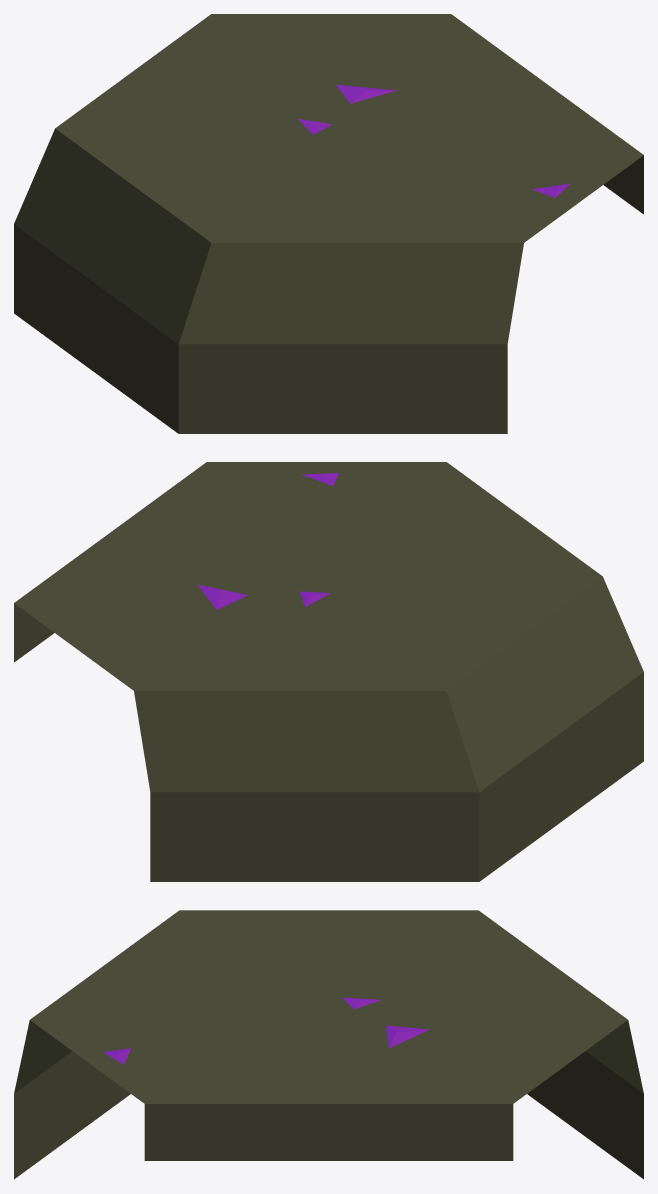
File: nearpointUnit3(2).fbx
3 views of the same model, one above another, from view 1: azimuth 30°, elevation 25°; view 2: azimuth 150°, elevation 25°; view 3: azimuth 270°, elevation 25° (orthographic). The views are drawn at different scales.
Parts seen in each view (by area): view 1: nearpointUnit3(2); view 2: nearpointUnit3(2); view 3: nearpointUnit3(2).
Part boxes in pixels (x1,y1,x2,y2): nearpointUnit3(2): [14, 14, 643, 433]; nearpointUnit3(2): [14, 462, 643, 881]; nearpointUnit3(2): [14, 910, 643, 1179].
Size of the model in its own units: 1.58 by 2 by 0.6128.
